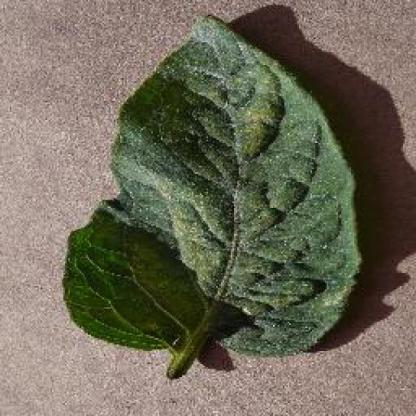Tomato_Spider_Mites: (66, 17, 358, 355)
